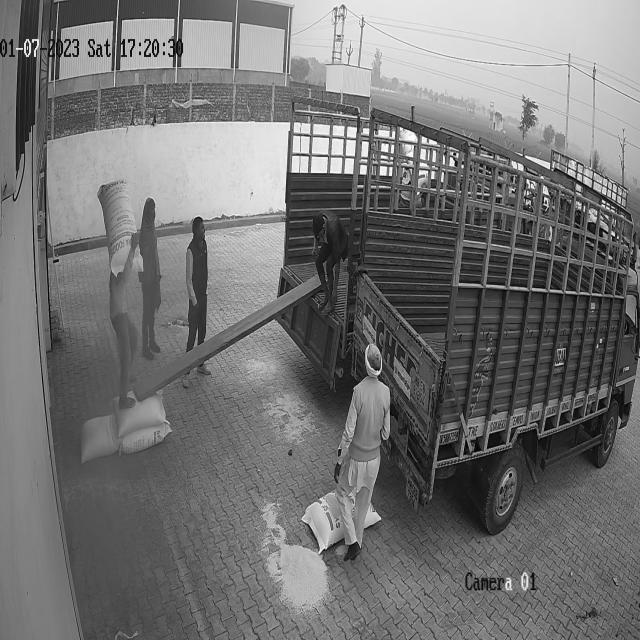sack: (302, 485, 381, 552), (98, 180, 140, 276), (118, 393, 166, 435), (80, 414, 119, 464), (120, 424, 170, 454)
